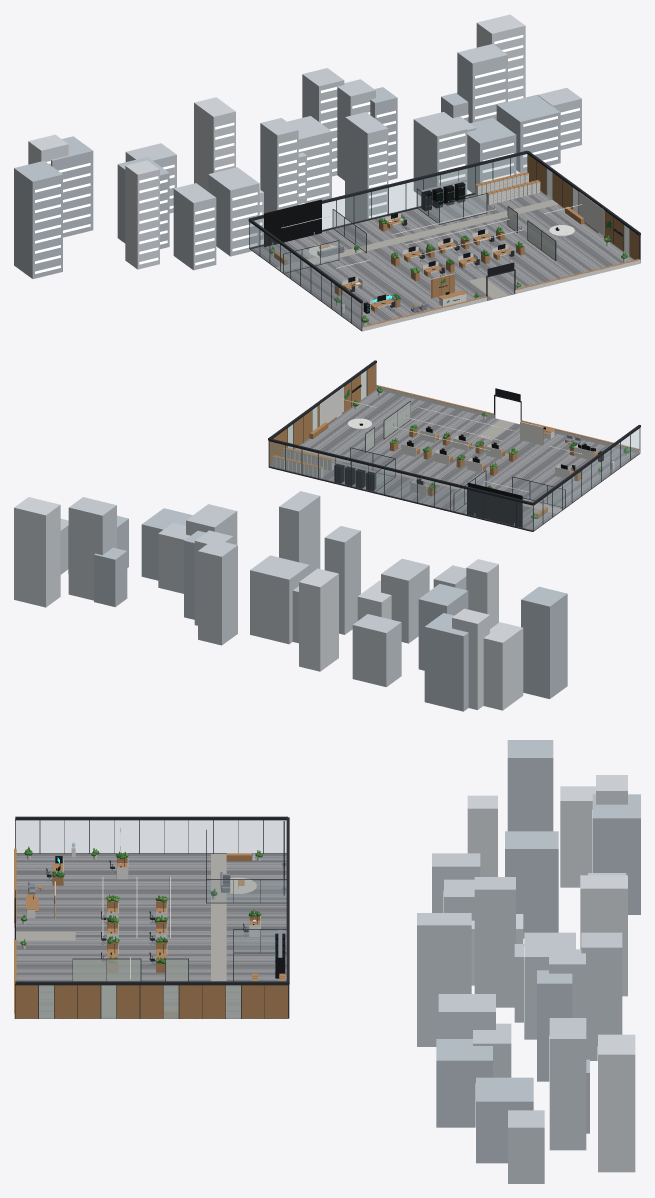
The model's file is office.glb.
The picture shows the model from 3 angles, top to bottom: view 1: azimuth 30°, elevation 25°; view 2: azimuth 150°, elevation 25°; view 3: azimuth 270°, elevation 25°; orthographic projection. The views are drawn at different scales.
Visible parts, largest first — view 1: City_Skyline, Office_Shell, Zone_VIP, Zone_Scanner, Zone_Server, Zone_Analyst, Zone_Entrance, Zone_Research, Ceiling_Lights, Logo_Wall_Panel; view 2: City_Skyline, Office_Shell, Zone_VIP, Zone_Scanner, Zone_Analyst, Zone_Server, Zone_Research, Zone_Entrance, Ceiling_Lights; view 3: City_Skyline, Office_Shell, Zone_Analyst, Zone_VIP, Zone_Scanner, Zone_Server, Zone_Research.
Part boxes in pixels (x1,y1,x2,y2): City_Skyline: (14,14,581,278); Office_Shell: (248,150,640,331); Zone_VIP: (264,199,366,273); Zone_Scanner: (391,226,524,280); Zone_Server: (416,179,487,224); Zone_Analyst: (507,192,610,260); Zone_Entrance: (334,252,627,306); Zone_Research: (340,293,427,325); Ceiling_Lights: (281,204,581,268); Logo_Wall_Panel: (430,273,454,298); City_Skyline: (14,491,567,711); Office_Shell: (268,360,640,531); Zone_VIP: (453,470,565,527); Zone_Scanner: (389,424,517,475); Zone_Analyst: (309,387,410,452); Zone_Server: (332,447,395,491); Zone_Research: (565,434,629,469); Zone_Entrance: (376,386,602,475); Ceiling_Lights: (341,399,581,492); City_Skyline: (417,740,640,1183); Office_Shell: (14,816,289,1018); Zone_Analyst: (72,958,188,1017); Zone_VIP: (206,821,286,903); Zone_Scanner: (101,894,167,972); Zone_Server: (233,929,286,981); Zone_Research: (24,842,75,894).
Size of the model in its own units: 79.08 by 13.8 by 64.34.
34 materials, 3 textured.
